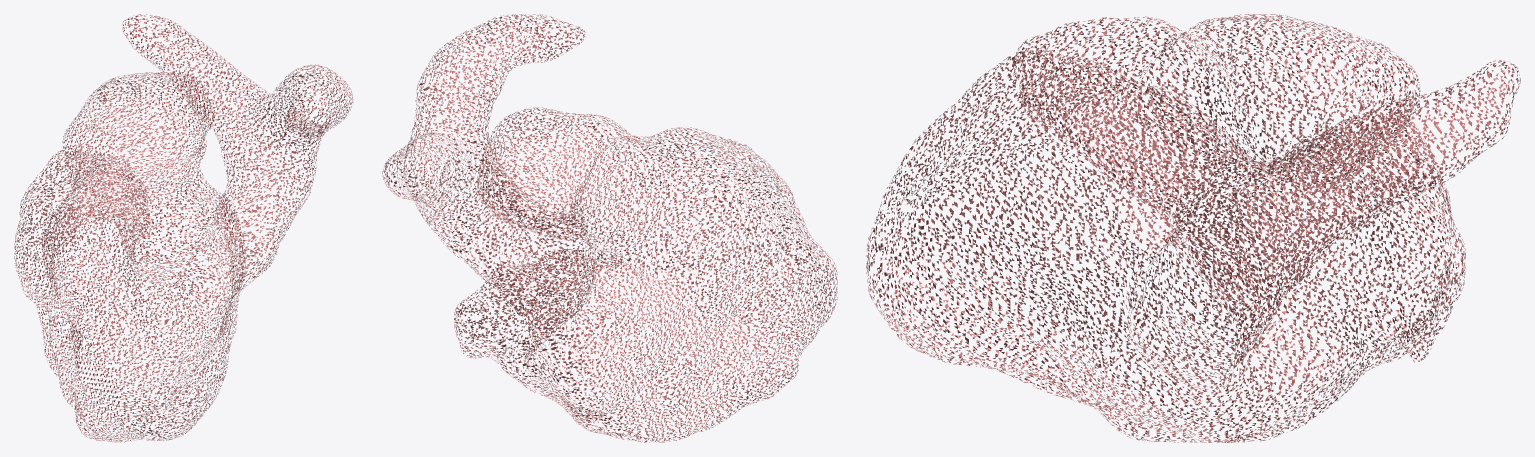
File: heart.glb
The picture shows the model from 3 angles, left to right: view 1: azimuth 30°, elevation 25°; view 2: azimuth 150°, elevation 25°; view 3: azimuth 270°, elevation 25°; orthographic projection. The views are drawn at different scales.
Bounding box in the file's own units: 109 × 109 × 129.
